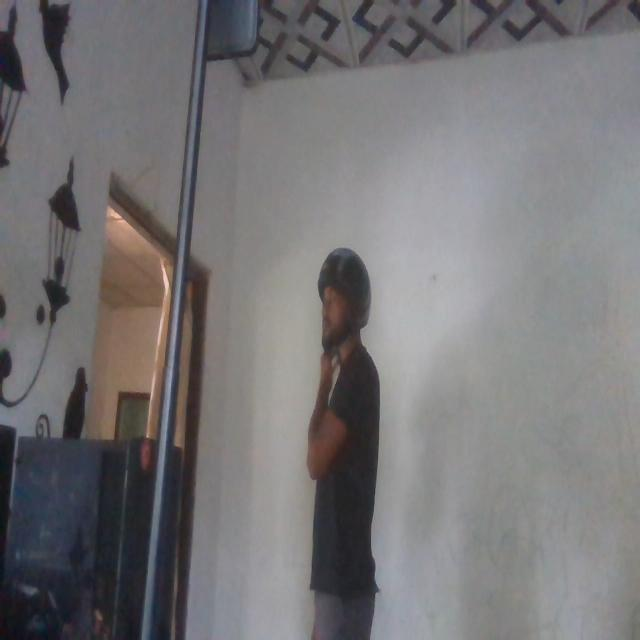Helmet_Wearer: (314, 238, 374, 380)
Person: (304, 250, 385, 640)
